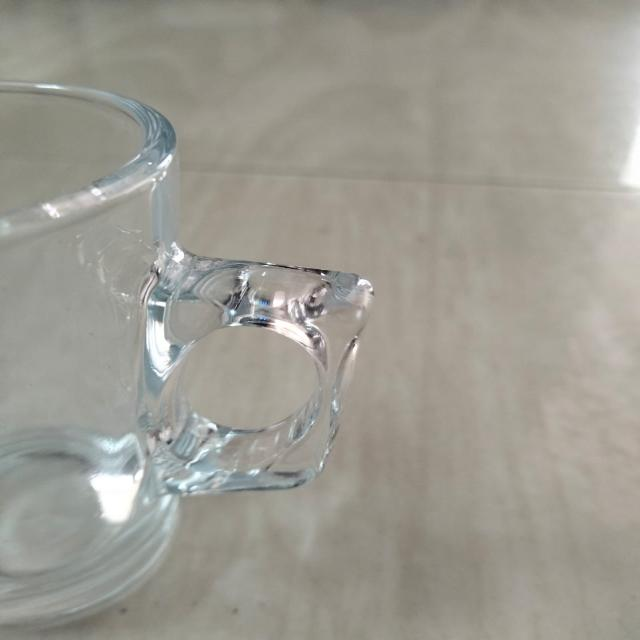glass-VX4N: (0, 79, 376, 640)
